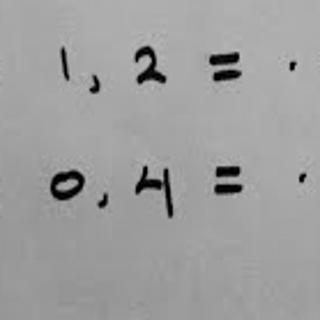.: (283, 55, 299, 75), (295, 167, 308, 186)
0: (47, 164, 87, 203)
1: (53, 39, 75, 86)
2: (126, 41, 169, 89)
4: (130, 160, 178, 224)
